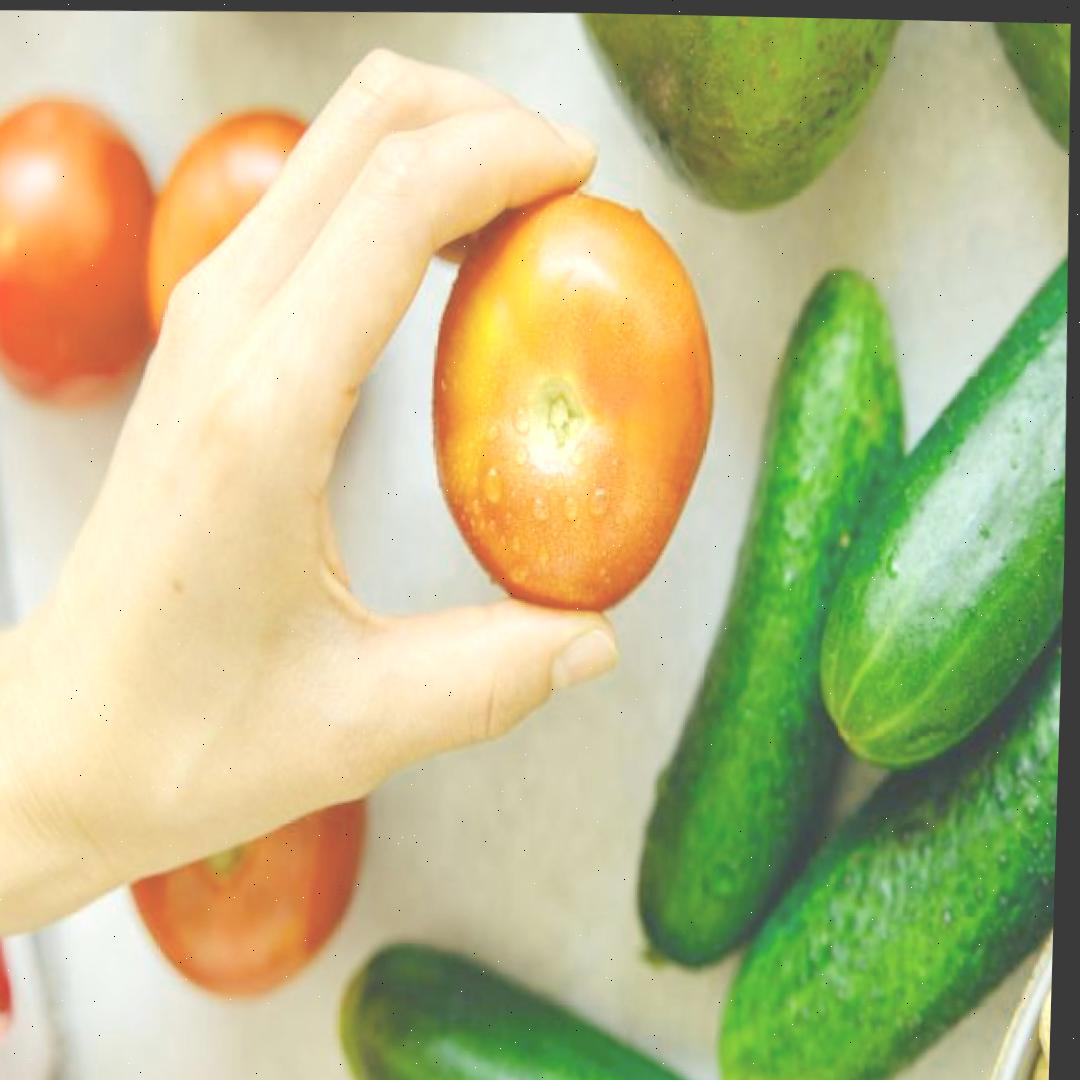matang: (424, 181, 726, 615), (0, 86, 173, 423)
